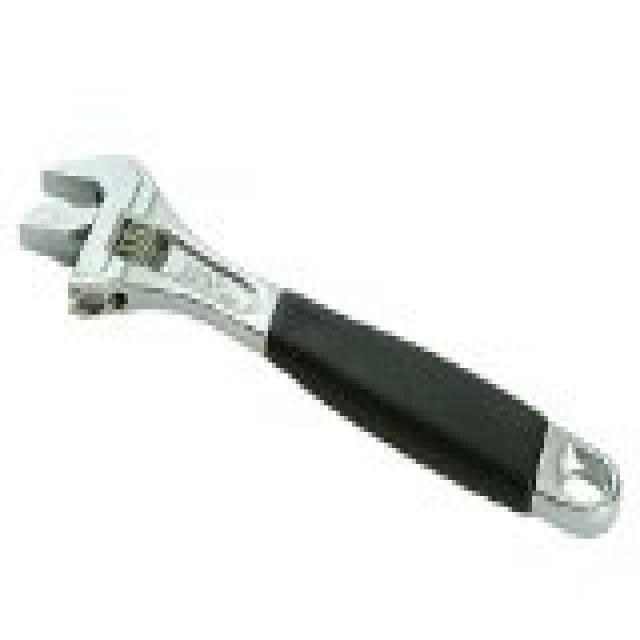wrench: (14, 142, 626, 548)
